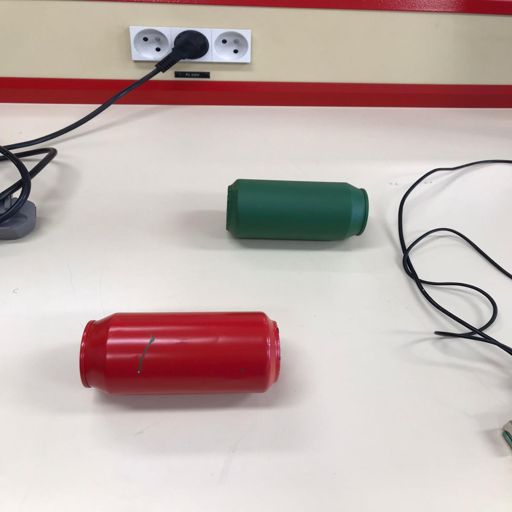Green_Can: (220, 176, 370, 241)
Red_Can: (75, 309, 281, 400)
